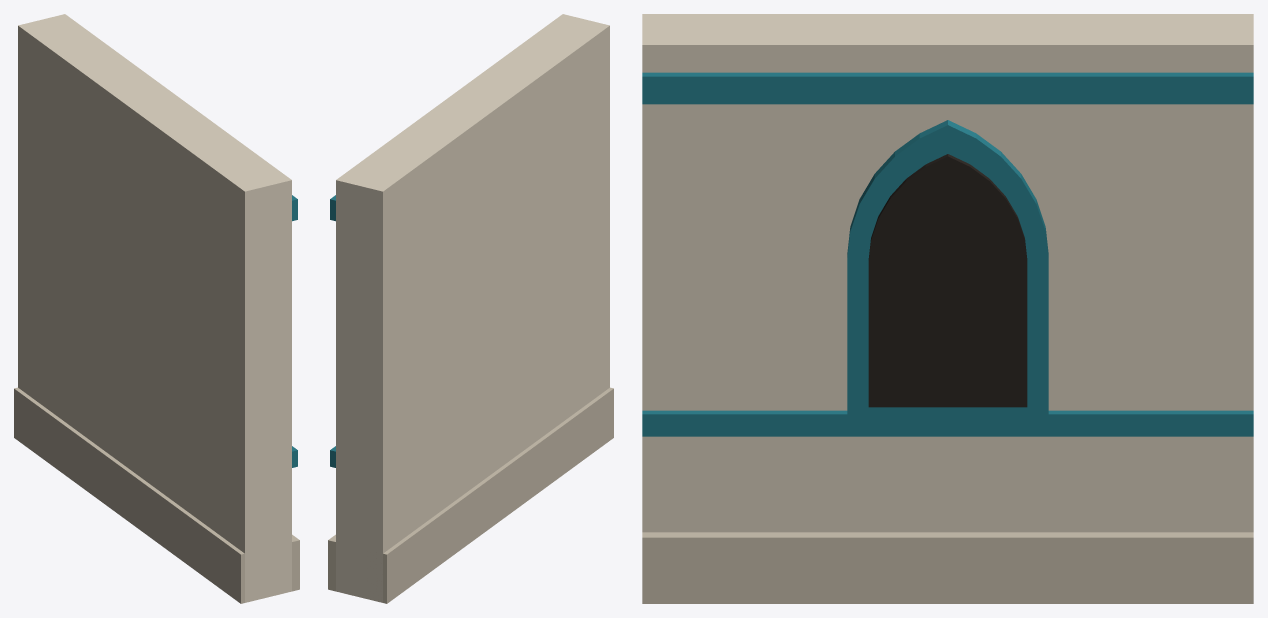
Rendered from wall-window.glb.
The picture shows the model from 3 angles, left to right: view 1: azimuth 30°, elevation 25°; view 2: azimuth 150°, elevation 25°; view 3: azimuth 270°, elevation 25°; orthographic projection. The views are drawn at different scales.
Parts seen in each view (by area): view 1: wall-window; view 2: wall-window; view 3: wall-window.
Boxes of the visible parts, left/top/right/bottom form: wall-window: left=14, top=14, right=299, bottom=603; wall-window: left=328, top=14, right=613, bottom=603; wall-window: left=642, top=14, right=1253, bottom=603.
Size of the model in its own units: 0.16 by 1 by 1.
